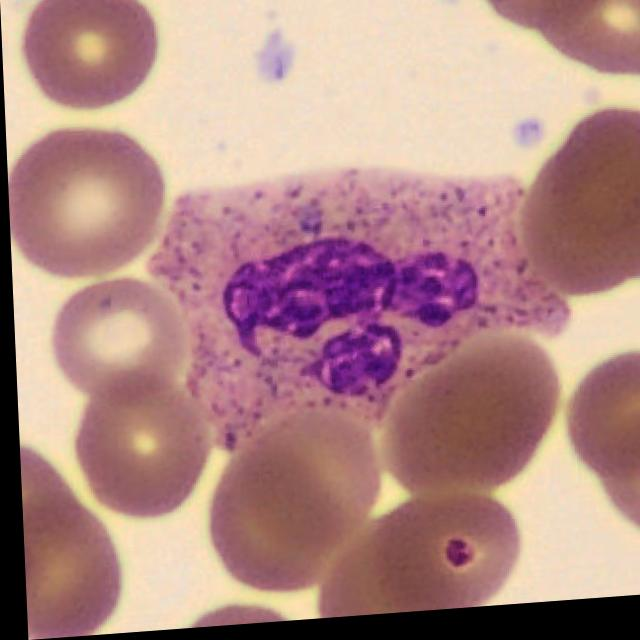Neutrofilo segmentado: (146, 170, 568, 455)
